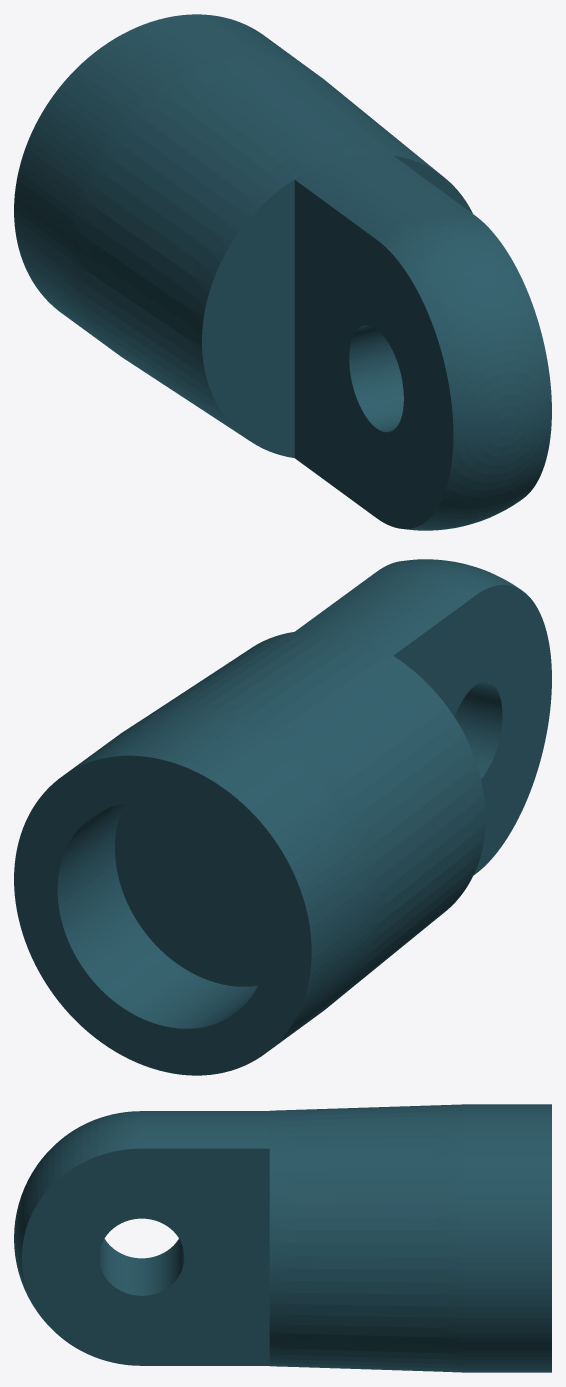
3 renders of one model, top to bottom at view 1: azimuth 30°, elevation 25°; view 2: azimuth 150°, elevation 25°; view 3: azimuth 270°, elevation 25°, orthographic. The views are drawn at different scales.
Visible parts, largest first — view 1: node; view 2: node; view 3: node.
Part boxes in pixels (<box>): node: <box>14,14,551,530</box>; node: <box>14,559,551,1075</box>; node: <box>14,1104,551,1372</box>.
Size of the model in its own units: 0.1042 by 0.1041 by 0.209.
